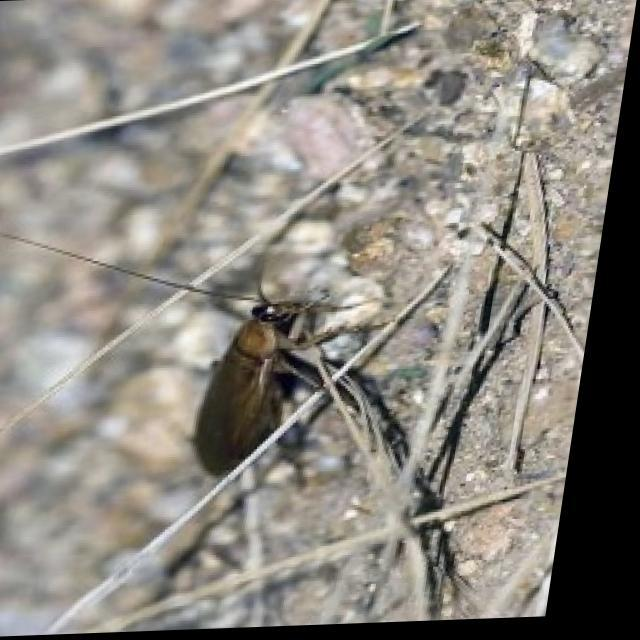cockroach: (188, 313, 301, 478)
